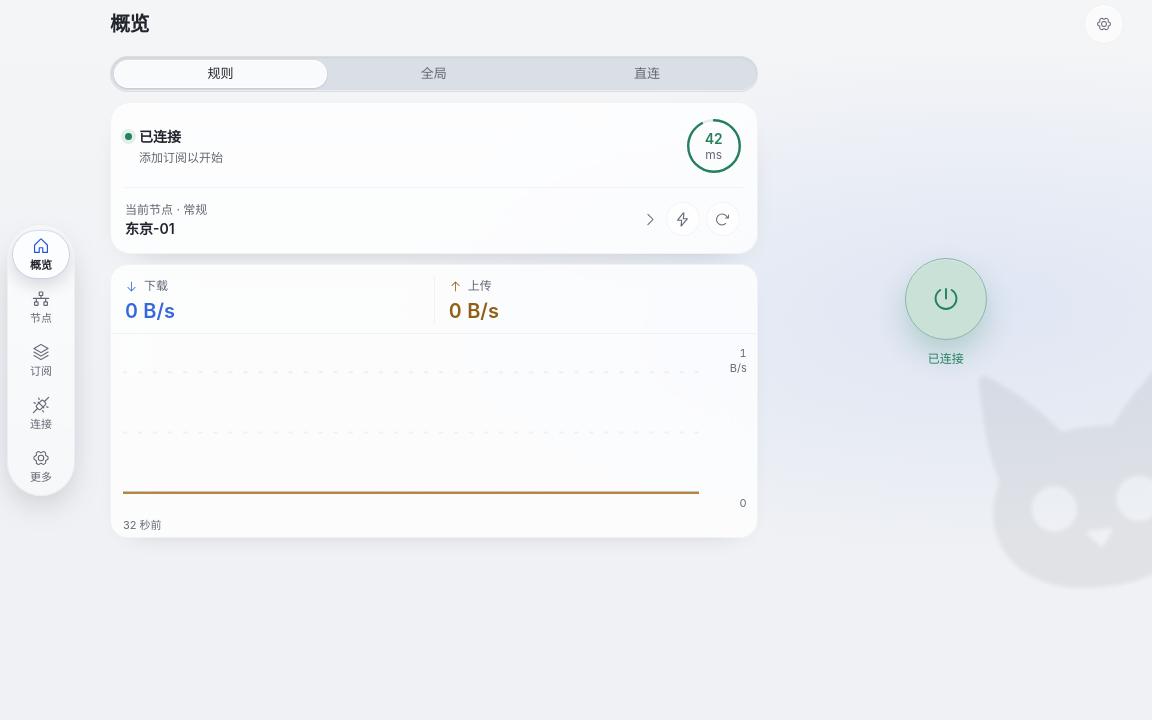
Test case: 点击延迟环测速，期间阻止重复请求，完成后按新结果更新颜色
Later steps or results of the test are not shown.
Step 1. Click the button with class "android-latency-button" → (714, 146), box [685,117,743,175]
Step 2. Click the button with class "android-latency-button" → (714, 146), box [685,117,743,175]
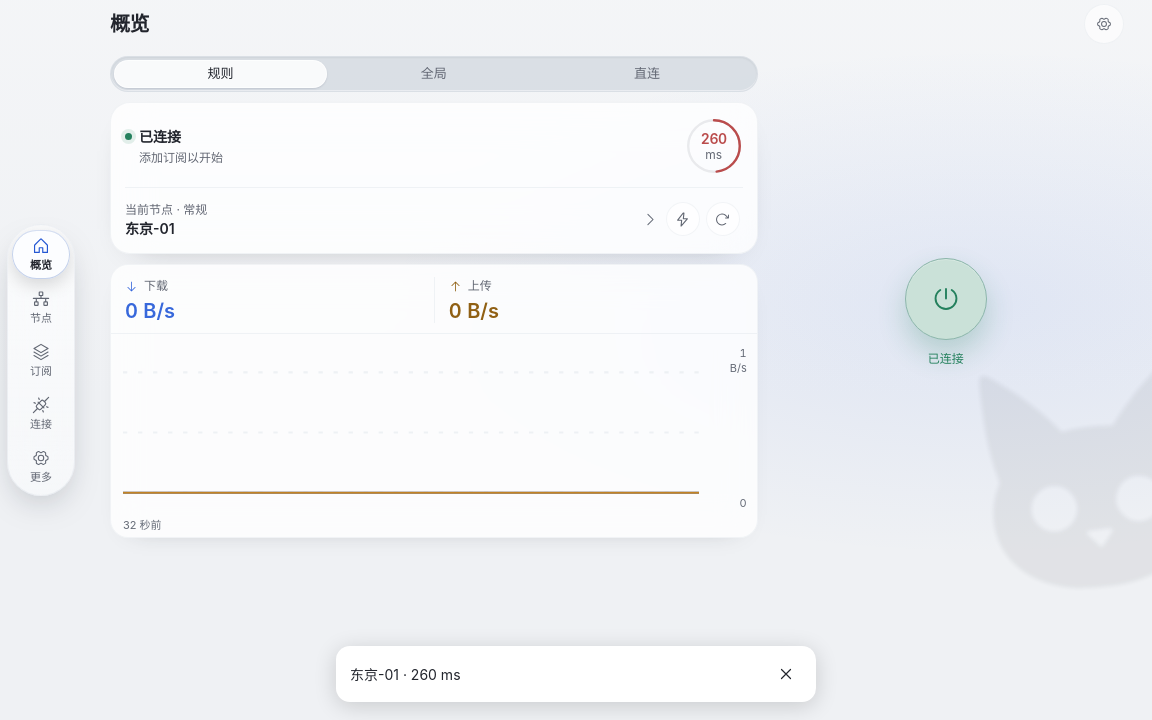
Now the button with class "android-latency-button" reads "260 ms", box [685,117,743,175]
